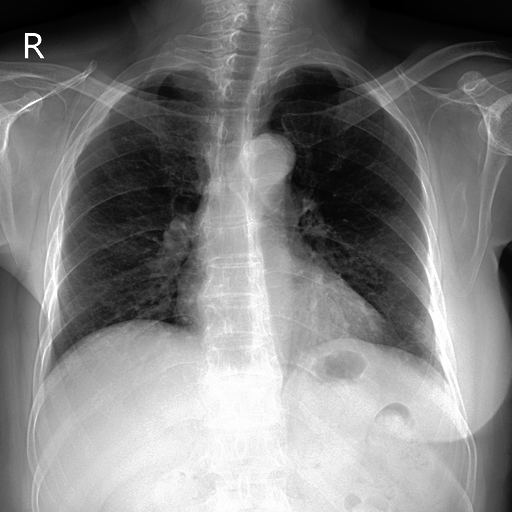Calcification: (276, 62, 354, 80), (129, 67, 186, 87)
Consolidation: (251, 131, 296, 180)
Nodule/Mass: (174, 275, 388, 348)
